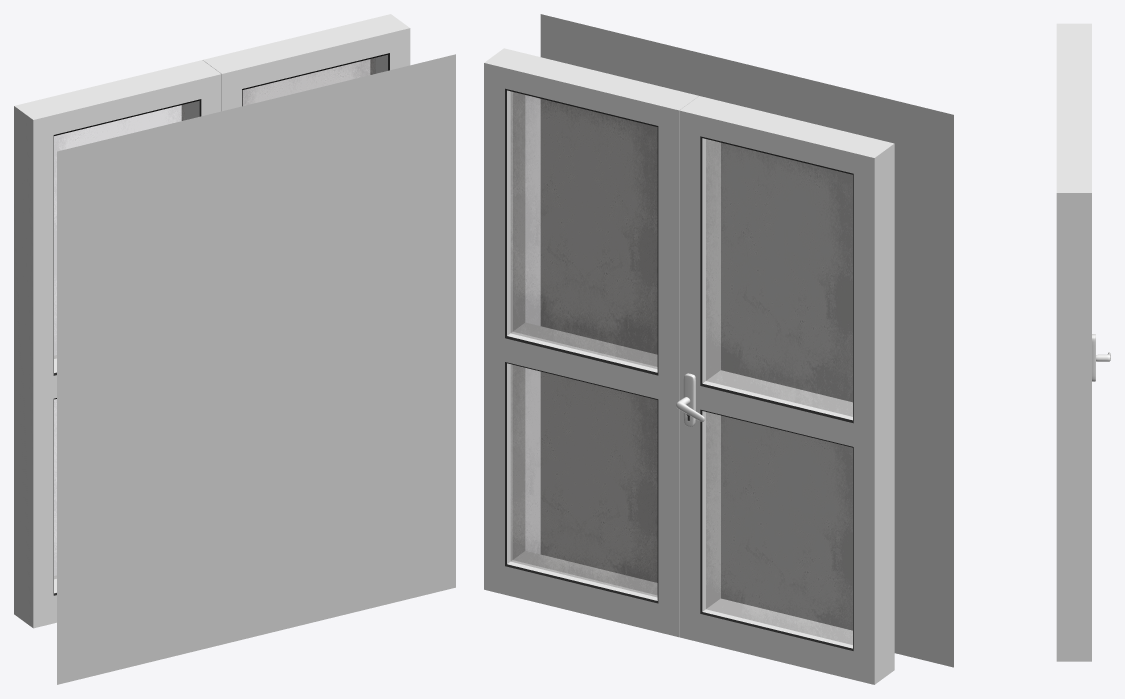
3 views of the same model, side by side, from view 1: azimuth 30°, elevation 25°; view 2: azimuth 150°, elevation 25°; view 3: azimuth 270°, elevation 25° (orthographic). The views are drawn at different scales.
Parts seen in each view (by area): view 1: Plane.153, Cube.370, Cube.369; view 2: Plane.153, Cube.370, Cube.369; view 3: Cube.369, Cube.370.
Boxes of the visible parts, x1=… form: Plane.153: x1=57, y1=54, x2=455, y2=684; Cube.370: x1=14, y1=60, x2=221, y2=628; Cube.369: x1=203, y1=14, x2=410, y2=111; Plane.153: x1=540, y1=14, x2=953, y2=667; Cube.370: x1=676, y1=96, x2=894, y2=684; Cube.369: x1=484, y1=48, x2=698, y2=637; Cube.369: x1=1056, y1=108, x2=1091, y2=661; Cube.370: x1=1056, y1=23, x2=1110, y2=381.
Bounding box in the file's own units: 505 × 645 × 153.
